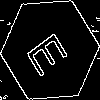E: (25, 25, 76, 79)
